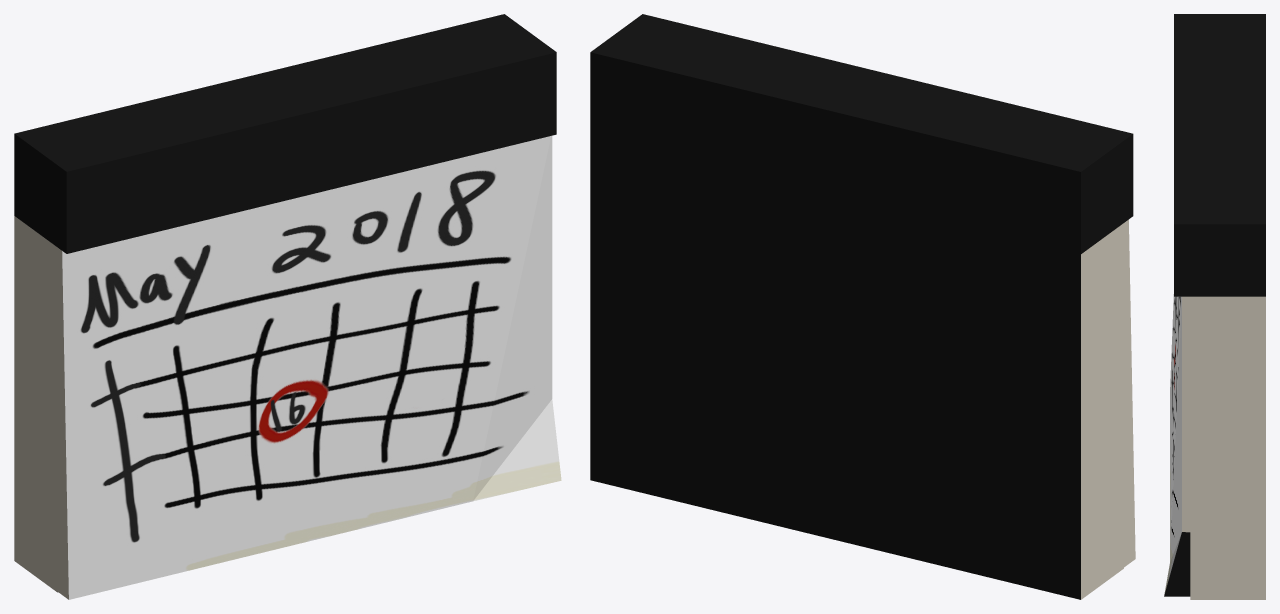
Rendered from Sketchfab_2018_04_11_09_13_37.fbx.
3 views of the same model, side by side, from view 1: azimuth 30°, elevation 25°; view 2: azimuth 150°, elevation 25°; view 3: azimuth 270°, elevation 25° (orthographic). The views are drawn at different scales.
Parts seen in each view (by area): view 1: Calendar; view 2: Calendar; view 3: Calendar.
Part boxes in pixels (box(x1,y1,x2,y2)): Calendar: box(14, 14, 561, 599); Calendar: box(590, 14, 1135, 599); Calendar: box(1164, 14, 1265, 599).
Bounding box in the file's own units: 6 × 5 × 1.23.
